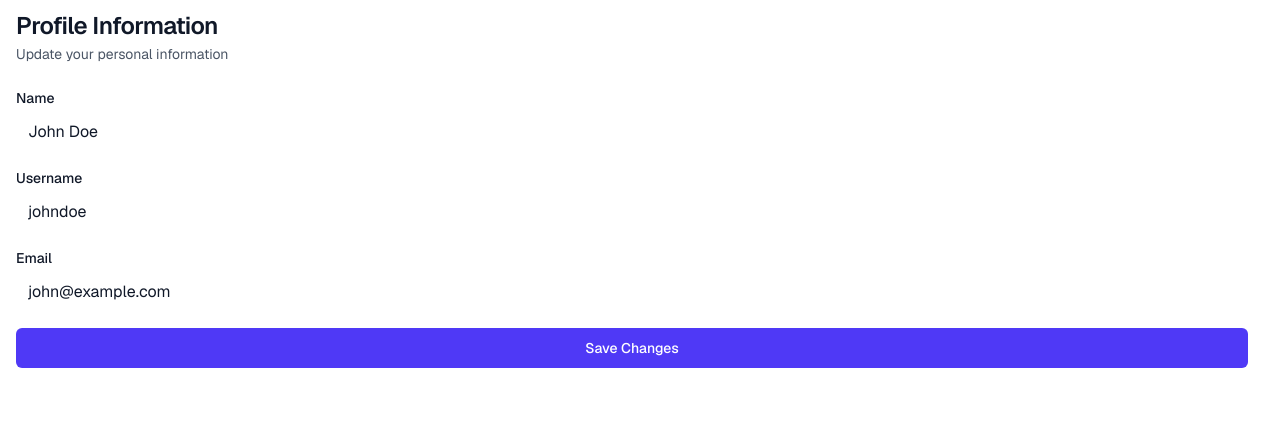
Scenario: ProfileInformationUpdateClient › should show error when username is empty
The image size is (1265, 445).
Clear the field labelled "Username" at (632, 212), box top-left (16, 192), bottom-right (1248, 232)
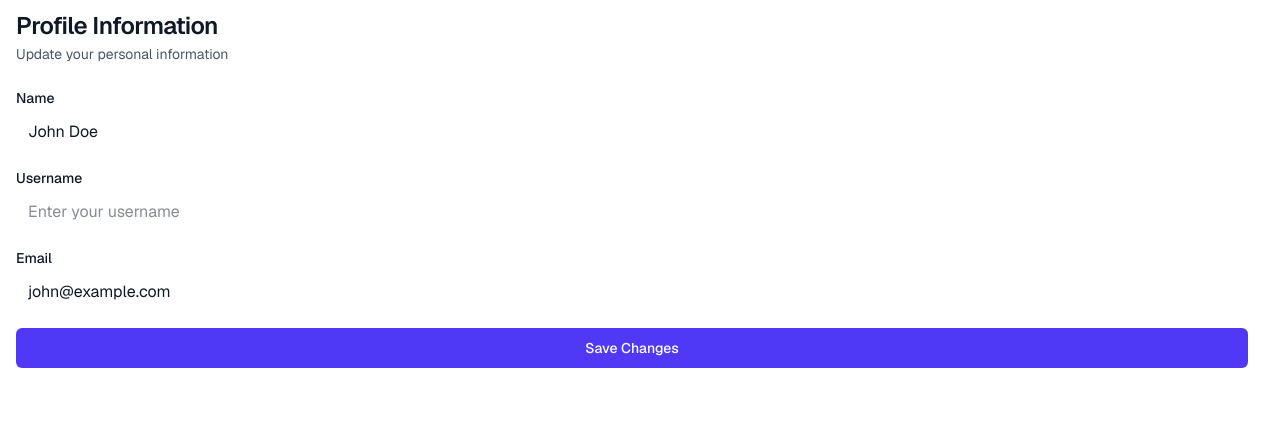
Submit the form "Name Username Email Save Changes"
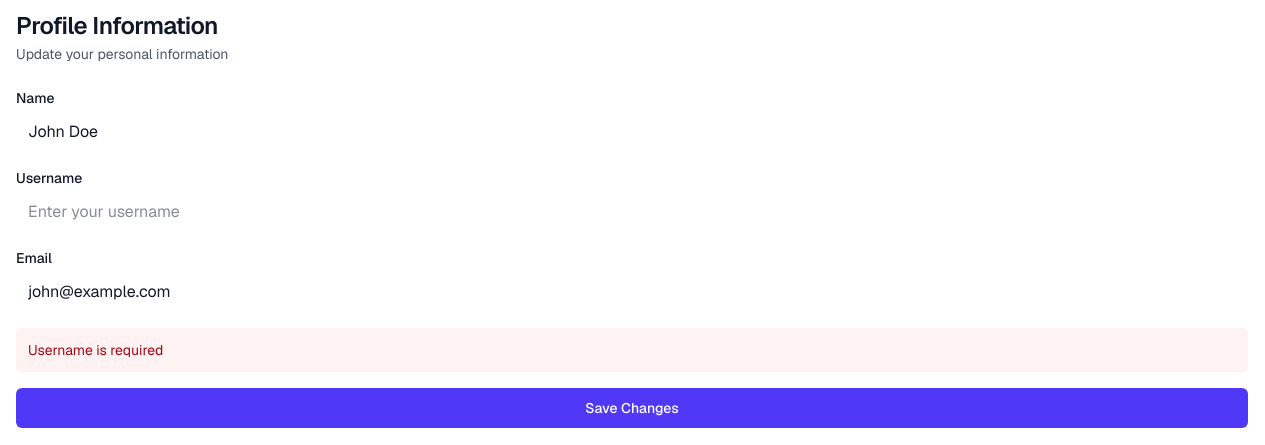
Result: the text "Username is required" is shown at top-left (28, 341), bottom-right (163, 359)
